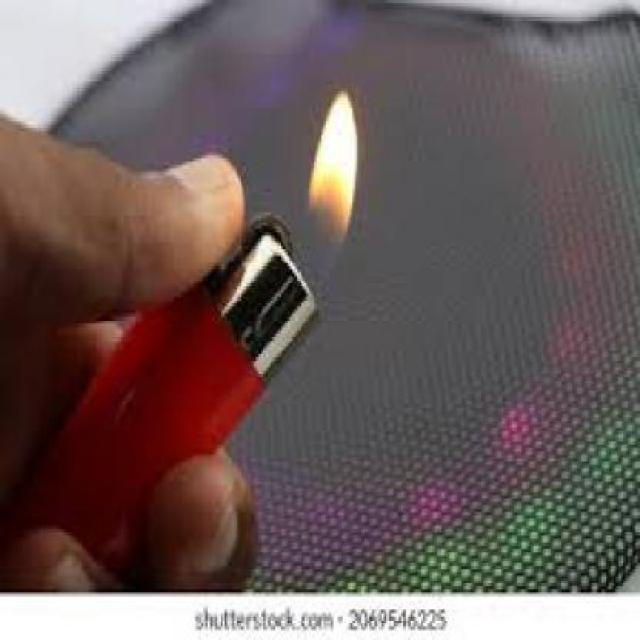Fire: (292, 88, 369, 288)
